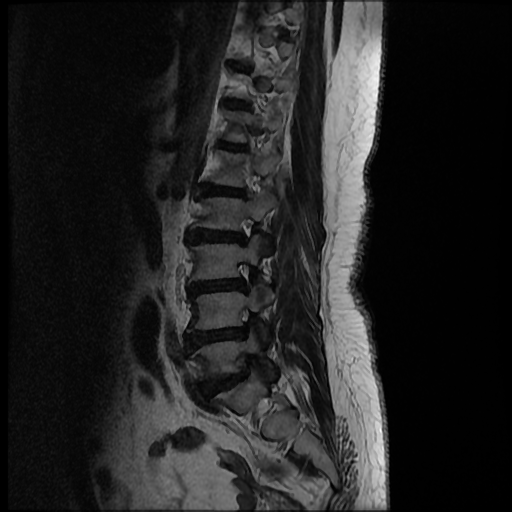LFS0: (228, 208, 263, 255)
LFS1: (227, 255, 266, 298)
